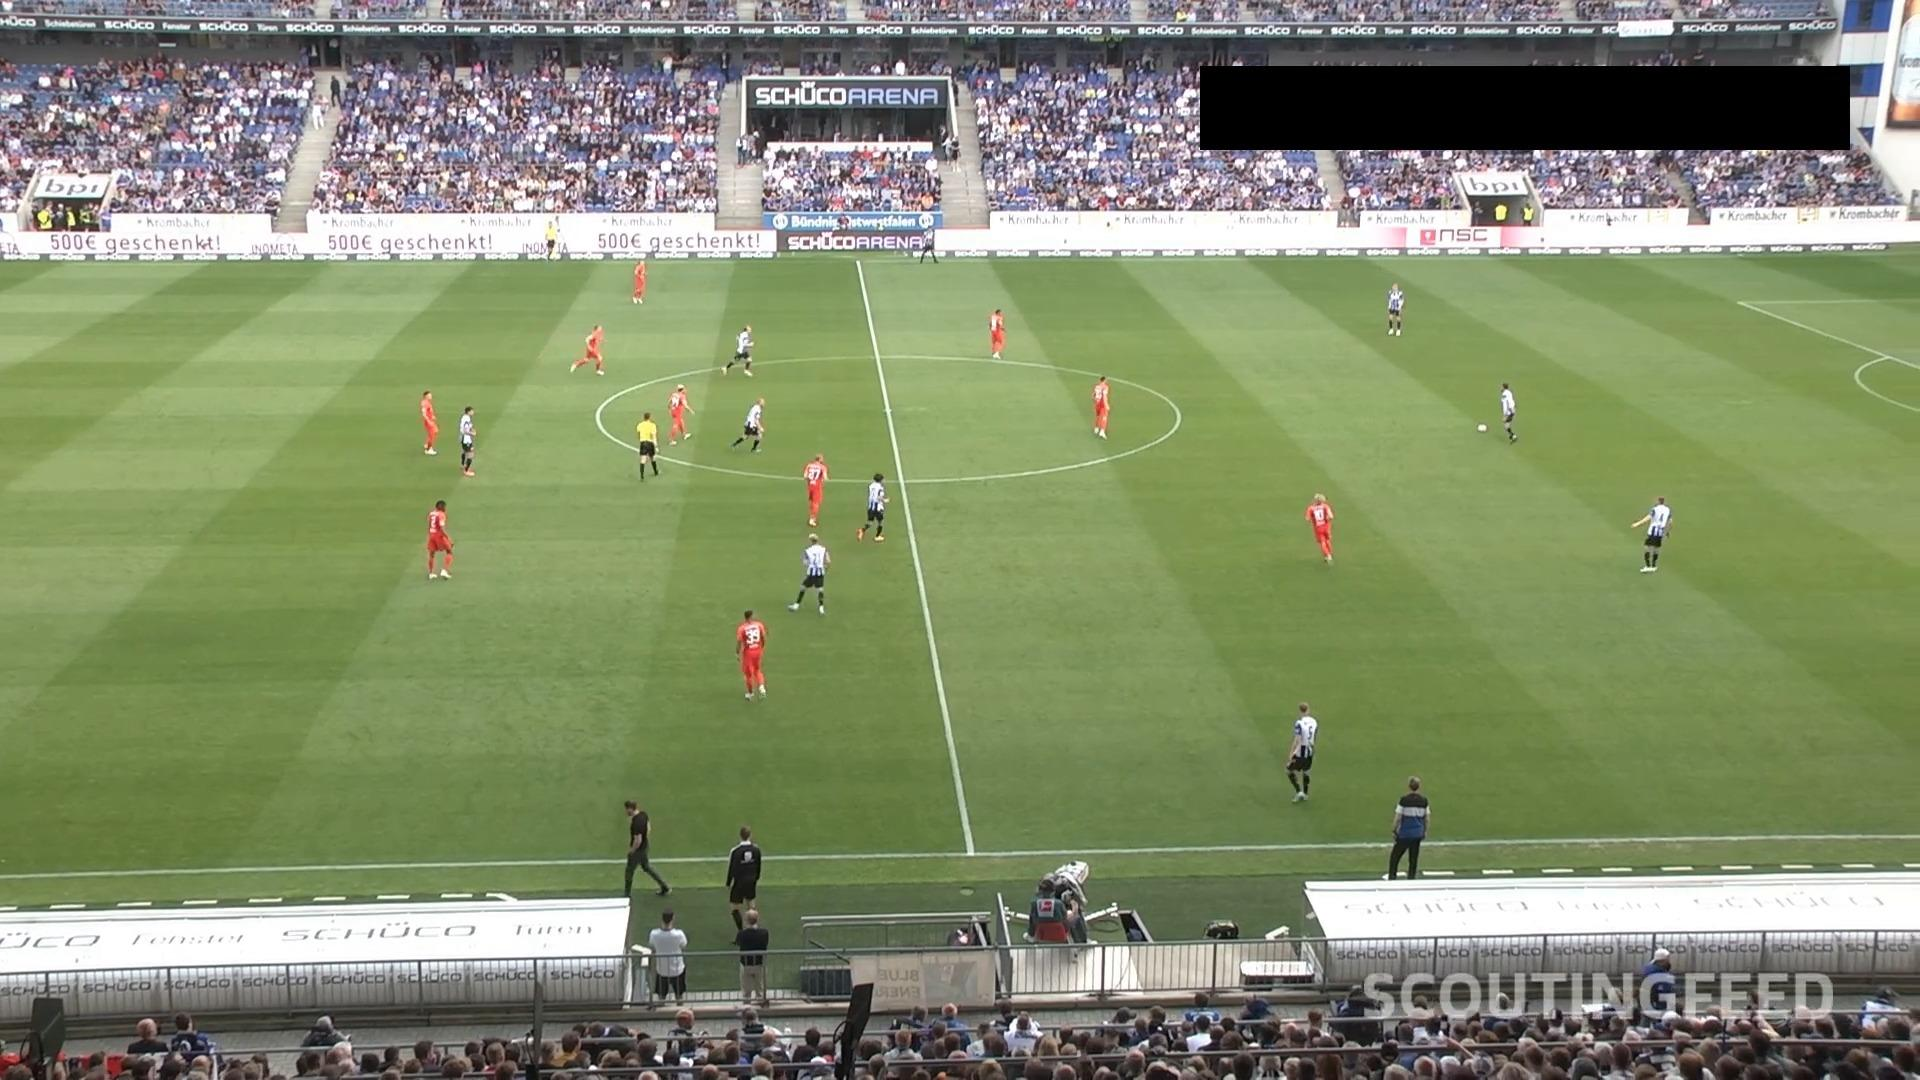ball: (1477, 422, 1489, 434)
